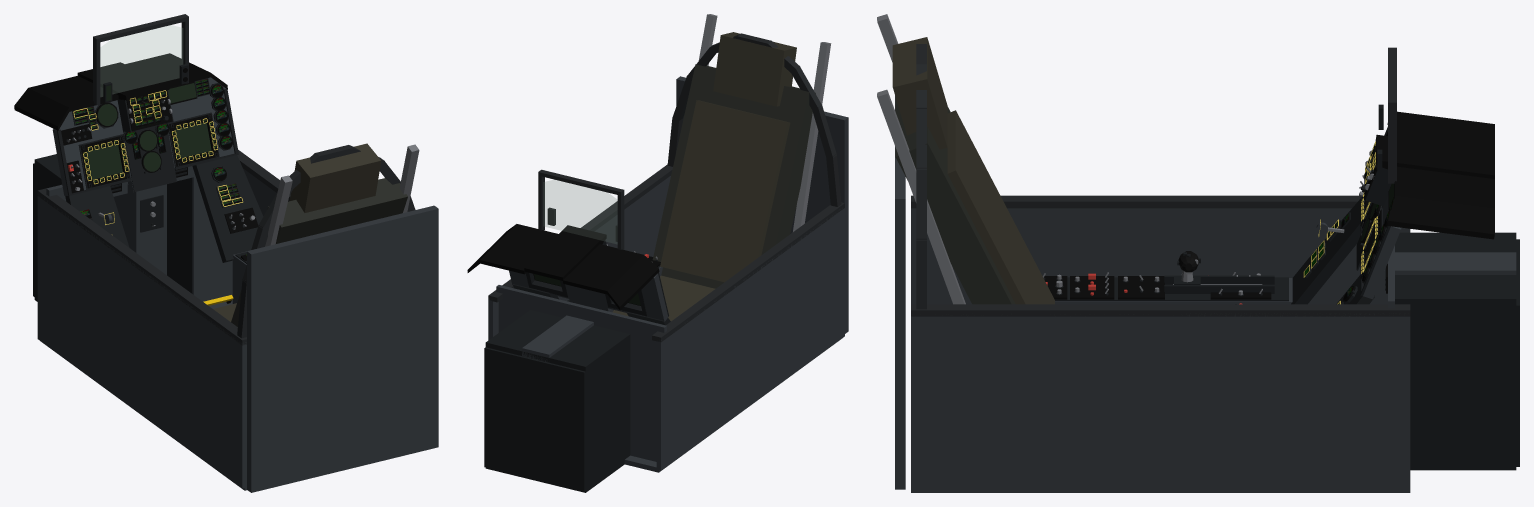
The model's file is cockpit_f16.glb.
3 views of the same model, side by side, from view 1: azimuth 30°, elevation 25°; view 2: azimuth 150°, elevation 25°; view 3: azimuth 270°, elevation 25° (orthographic). The views are drawn at different scales.
Visible parts, largest first — view 1: panel_grey.005, panel_grey.001, black, hud_glass_69, cushion_97, seat_95, dark.003, frame, panel_grey.010, dark.006, panel_grey.012, dark.001 (+17 smaller); view 2: panel_grey.001, cushion_96, dark.008, black, seat_95, dark.005, cushion_97, panel_grey.009, dark.007, hud_glass_69, panel_grey.005, panel_grey.003 (+16 smaller); view 3: panel_grey.003, panel_grey.001, dark.006, black, cushion_96, frame.001, seat_95, dark.007, frame, cushion_97, panel_grey.005, panel_grey.012 (+16 smaller).
Boxes of the visible parts, x1,y1,x2,y2 form: panel_grey.005: (247, 205, 438, 492); panel_grey.001: (37, 194, 246, 488); black: (14, 53, 227, 130); hud_glass_69: (100, 25, 182, 96); cushion_97: (289, 143, 381, 212); seat_95: (231, 178, 407, 326); dark.003: (192, 155, 263, 262); frame: (37, 188, 246, 345); panel_grey.010: (192, 171, 232, 301); dark.006: (167, 177, 191, 293); panel_grey.012: (113, 184, 166, 274); dark.001: (65, 186, 129, 247); panel_grey.001: (656, 208, 844, 470); cushion_96: (660, 100, 790, 282); dark.008: (484, 347, 586, 491); black: (467, 224, 659, 310); seat_95: (652, 64, 815, 288); dark.005: (585, 339, 630, 490); cushion_97: (713, 32, 796, 106); panel_grey.009: (625, 316, 666, 461); dark.007: (485, 310, 630, 371); hud_glass_69: (543, 180, 617, 243); panel_grey.005: (676, 76, 848, 333); panel_grey.003: (488, 176, 670, 340); panel_grey.003: (911, 313, 1410, 491); panel_grey.001: (911, 208, 1410, 304); dark.006: (1410, 305, 1516, 466); black: (1375, 111, 1494, 239); cushion_96: (947, 110, 1054, 304); frame.001: (911, 304, 1410, 316); seat_95: (895, 97, 1015, 304); dark.007: (1395, 232, 1516, 305); frame: (911, 195, 1360, 208); cushion_97: (892, 37, 947, 149); panel_grey.005: (895, 95, 905, 489); panel_grey.012: (1370, 252, 1516, 304).
Size of the model in its own units: 0.76 by 1.19 by 1.8.
27 materials, 6 textured.
